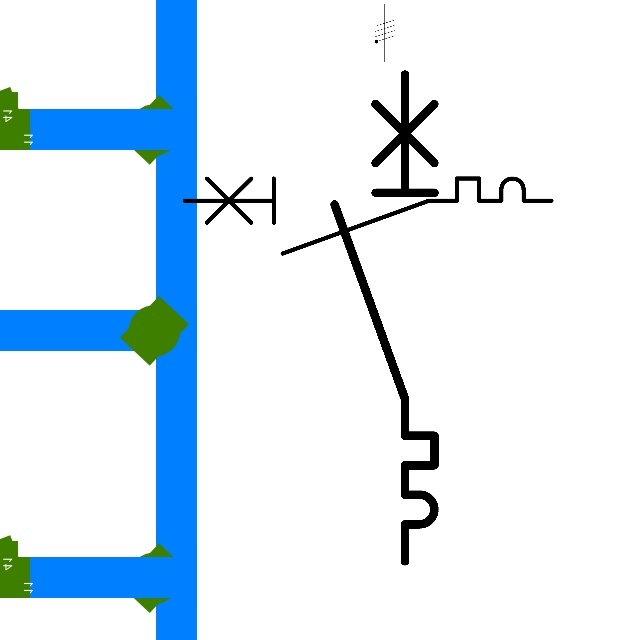interruptor_termomagnetico: (322, 61, 447, 573), (175, 169, 561, 263)
